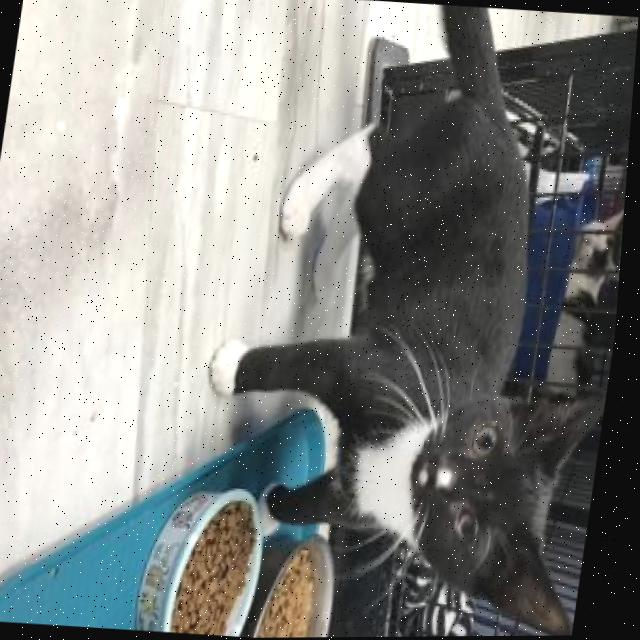Tuxedo: (174, 0, 640, 639)
